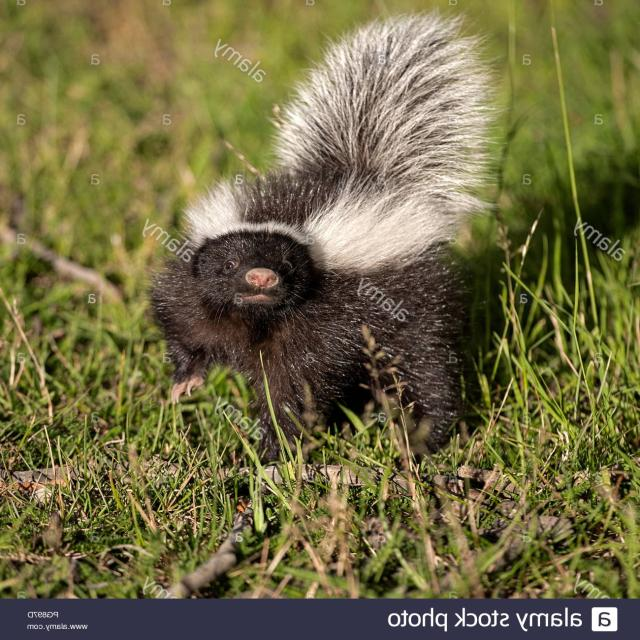Skunk: (153, 0, 522, 475)
